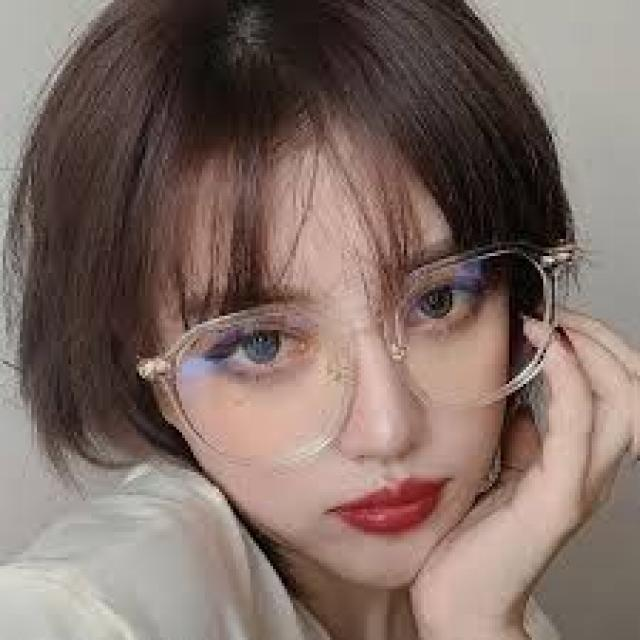Glasses: (122, 205, 583, 475)
